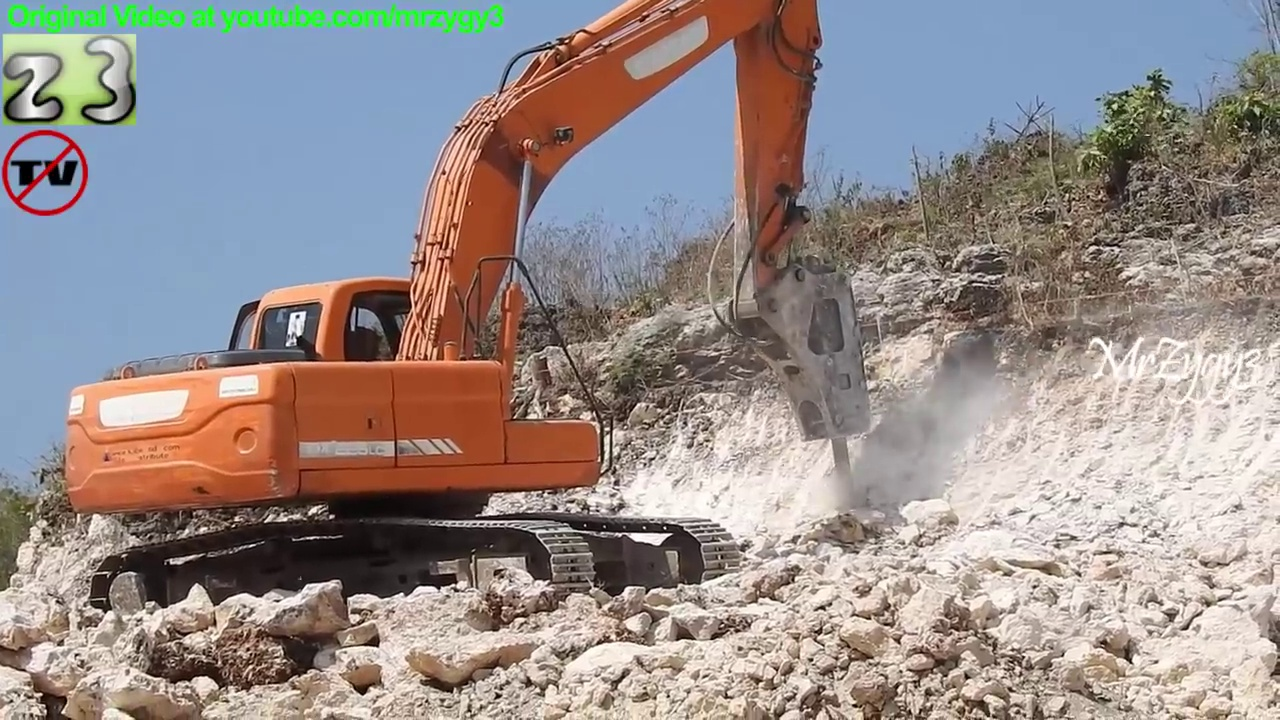excavator: (57, 1, 882, 627)
